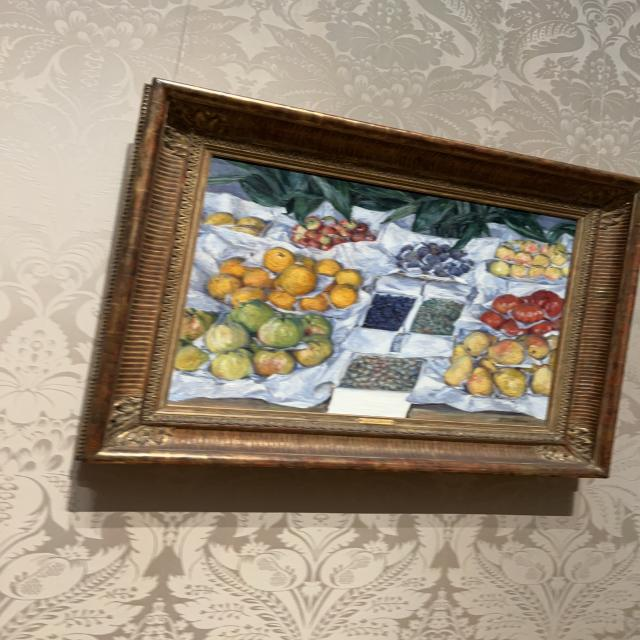fruits: (172, 162, 574, 424)
